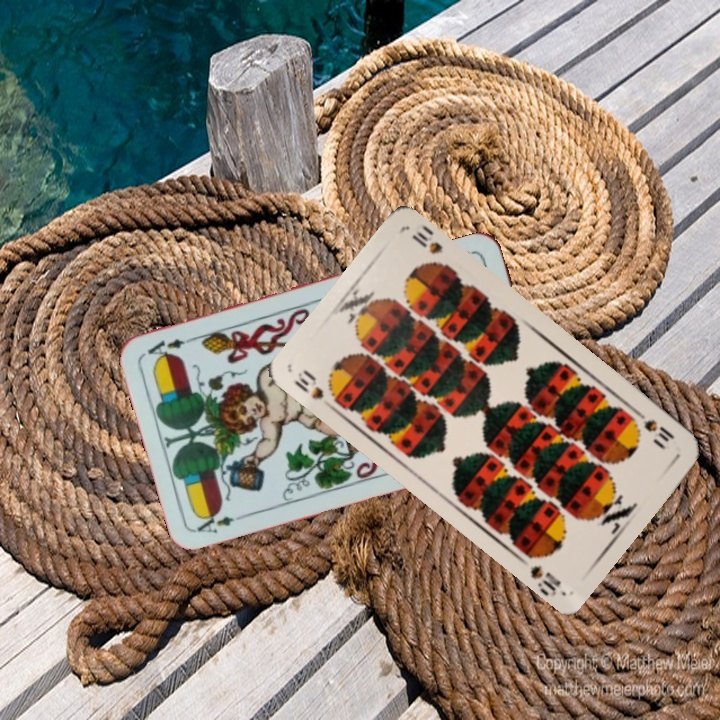EA: (193, 507, 251, 536)
S10: (290, 366, 338, 413), (639, 415, 677, 445)
